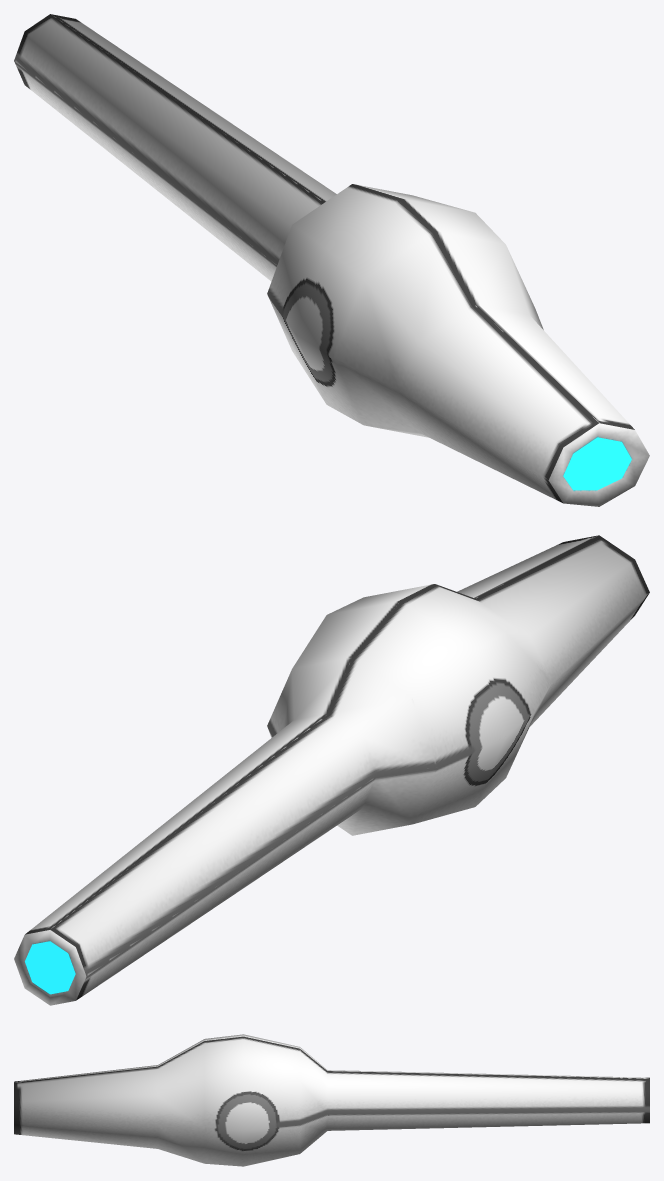
The model's file is LaserGun.fbx.
The picture shows the model from 3 angles, top to bottom: view 1: azimuth 30°, elevation 25°; view 2: azimuth 150°, elevation 25°; view 3: azimuth 270°, elevation 25°; orthographic projection. The views are drawn at different scales.
Parts seen in each view (by area): view 1: LaserGun; view 2: LaserGun; view 3: LaserGun.
Part boxes in pixels (x1,y1,x2,y2): LaserGun: [14, 14, 649, 506]; LaserGun: [14, 535, 649, 1005]; LaserGun: [14, 1034, 649, 1166].
Bounding box in the file's own units: 50.39 × 50.39 × 228.
2 materials, 1 textured.
